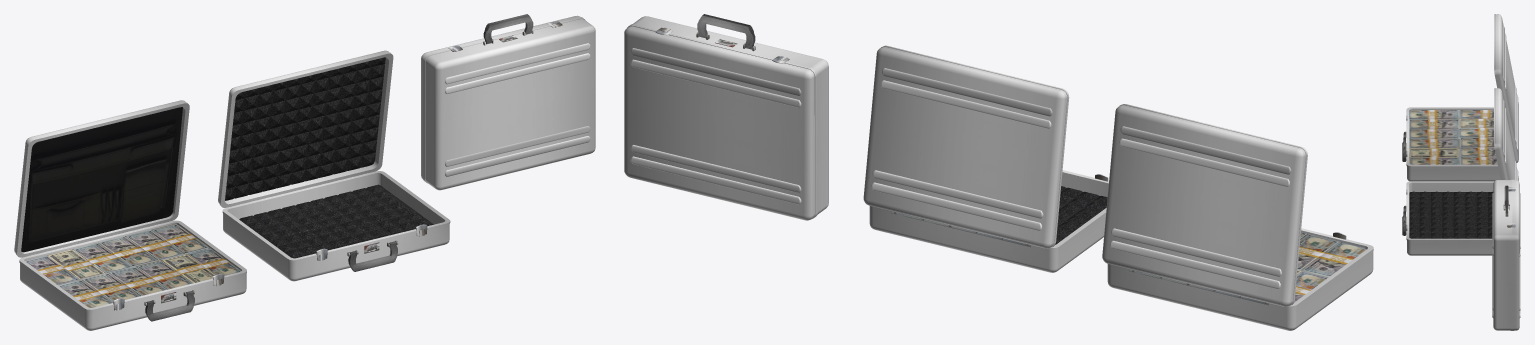
Rendered from Briefcase.fbx.
The picture shows the model from 3 angles, left to right: view 1: azimuth 30°, elevation 25°; view 2: azimuth 150°, elevation 25°; view 3: azimuth 270°, elevation 25°; orthographic projection. The views are drawn at different scales.
Visible parts, largest first — view 1: Closed_Empty, Top_Cash, Top_Foam, Bottom_Foam, Bottom_Cash; view 2: Closed_Empty, Top_Foam, Top_Cash, Bottom_Cash, Bottom_Foam; view 3: Bottom_Cash, Bottom_Foam, Closed_Empty, Top_Cash, Top_Foam.
Boxes of the visible parts, x1=… form: Closed_Empty: x1=421, y1=14, x2=595, y2=190; Top_Cash: x1=14, y1=100, x2=189, y2=257; Top_Foam: x1=218, y1=50, x2=393, y2=207; Bottom_Foam: x1=222, y1=171, x2=450, y2=281; Bottom_Cash: x1=19, y1=220, x2=246, y2=330; Closed_Empty: x1=624, y1=14, x2=828, y2=220; Top_Foam: x1=863, y1=45, x2=1069, y2=248; Top_Cash: x1=1102, y1=104, x2=1307, y2=306; Bottom_Cash: x1=1107, y1=228, x2=1373, y2=330; Bottom_Foam: x1=869, y1=170, x2=1108, y2=272; Bottom_Cash: x1=1402, y1=107, x2=1500, y2=181; Bottom_Foam: x1=1402, y1=181, x2=1493, y2=255; Closed_Empty: x1=1492, y1=179, x2=1520, y2=330; Top_Cash: x1=1494, y1=14, x2=1518, y2=162; Top_Foam: x1=1494, y1=88, x2=1518, y2=180.
Size of the model in its own units: 223 by 57.01 by 53.99.
2 materials, 2 textured.
